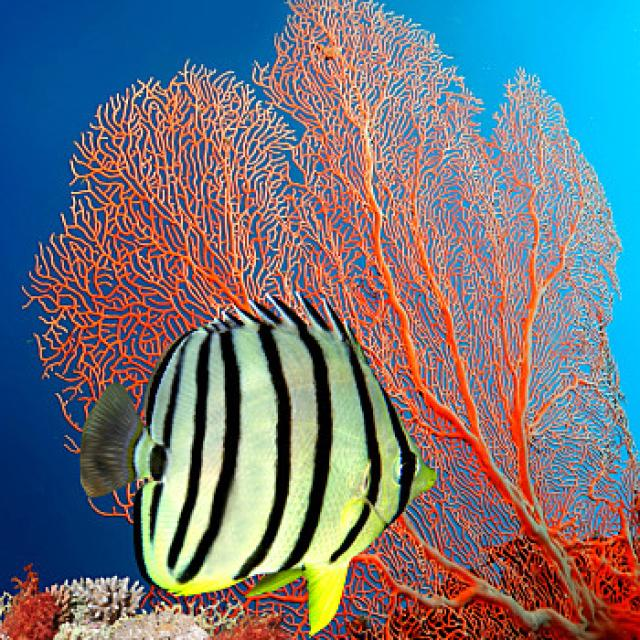ButterflyFish: (84, 296, 439, 627)
